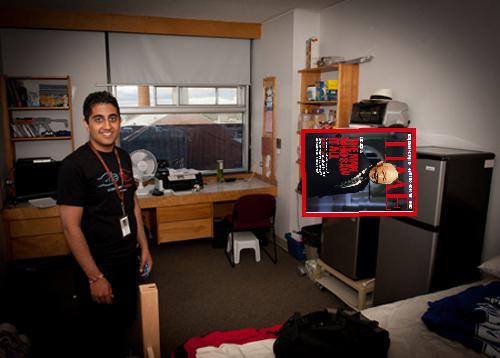times: (300, 126, 416, 219)
